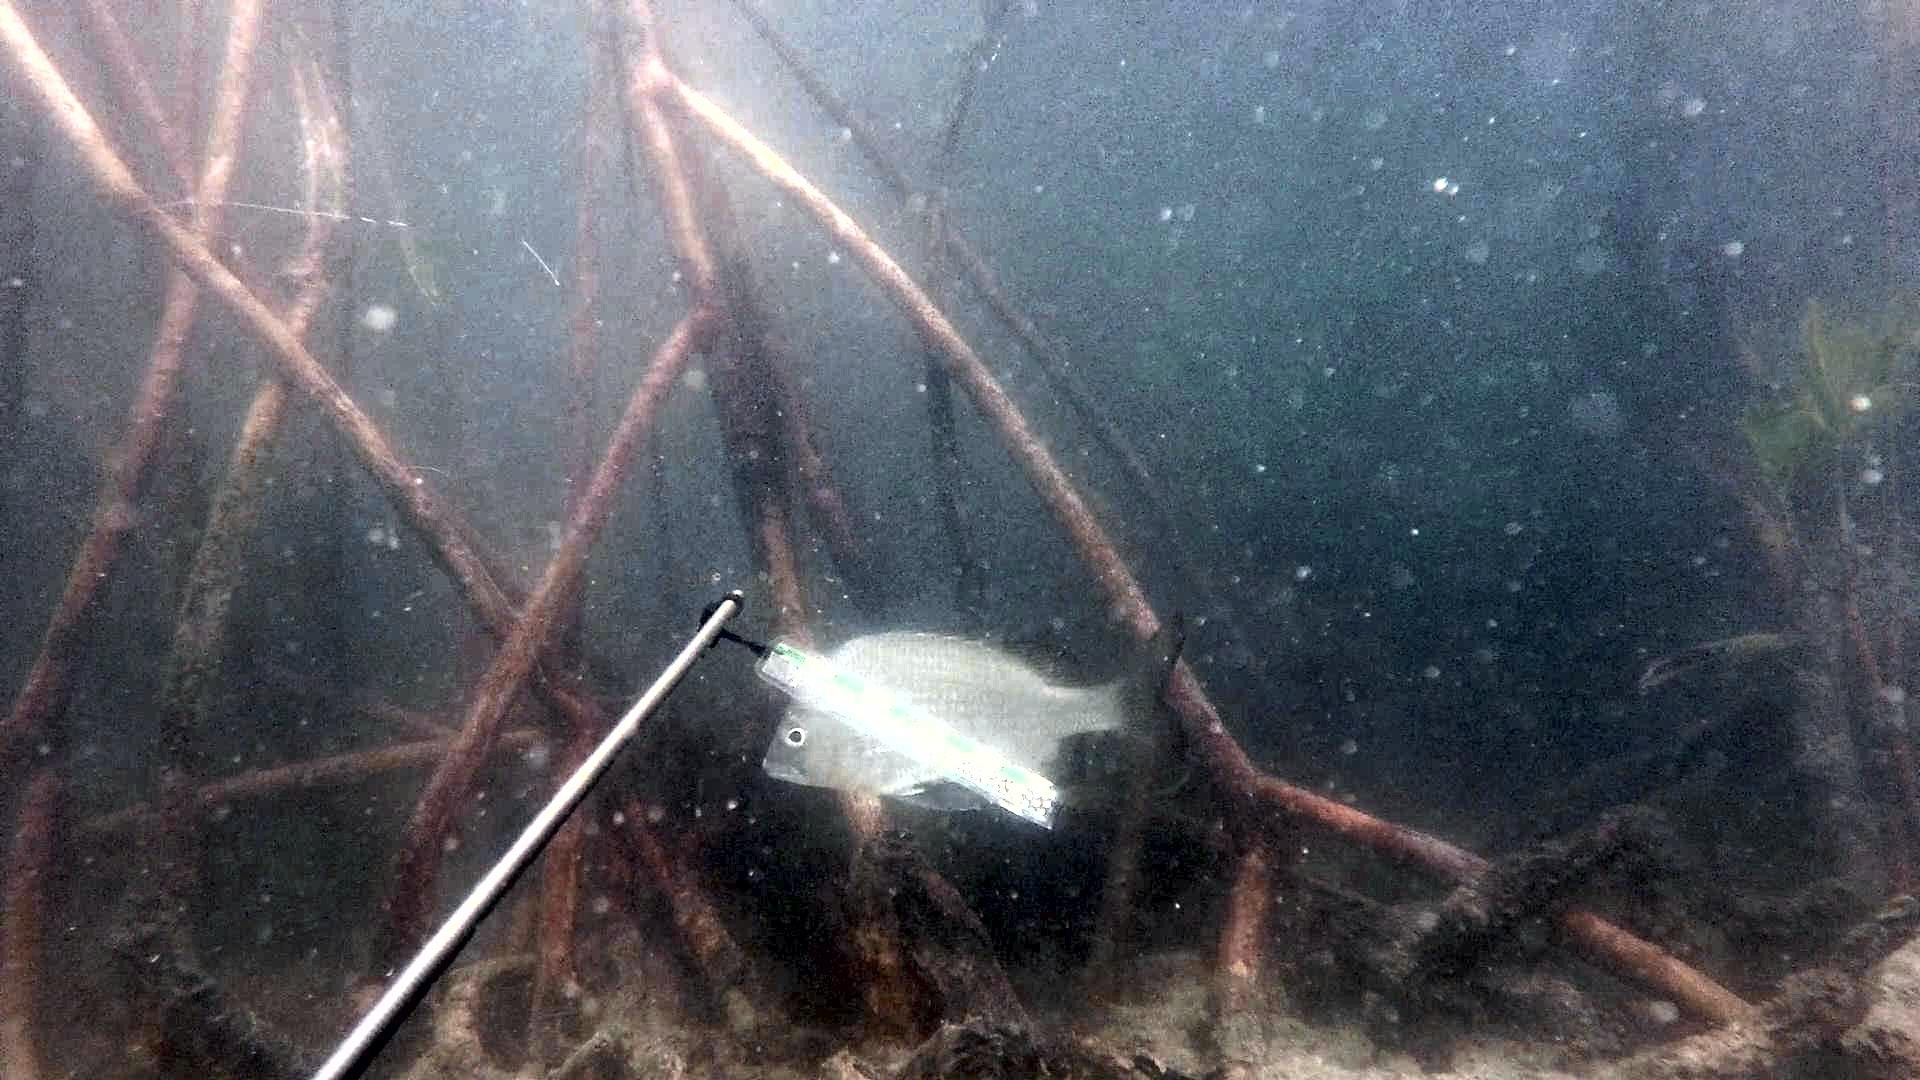acanthopagrus palmaris: (745, 597, 1205, 828)
